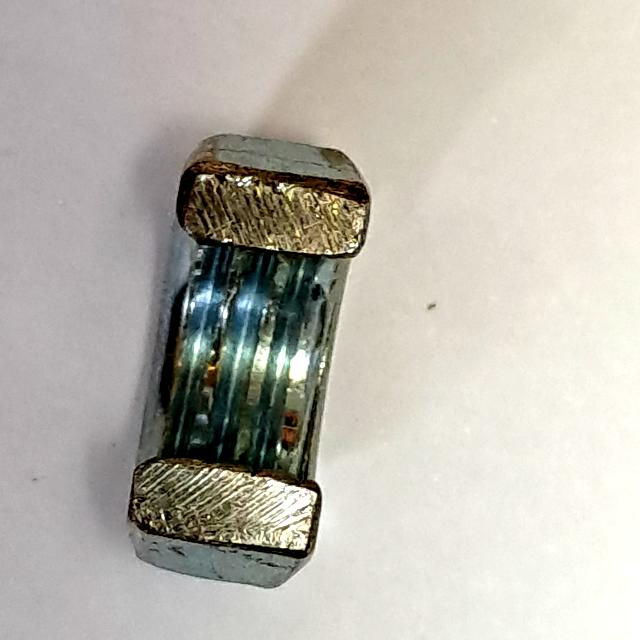Side-Fracture: (117, 126, 380, 596)
